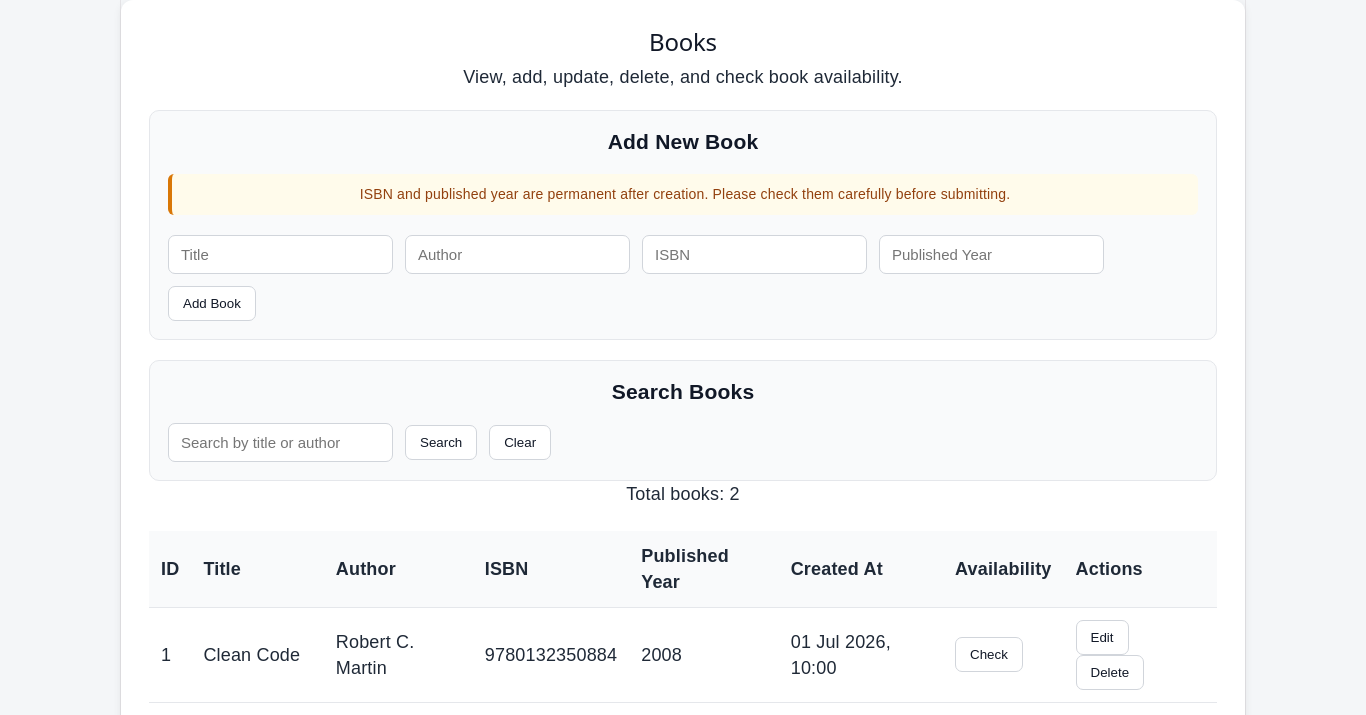
Test: BooksPage › should only allow title and author to be edited
This screenshot has width=1366, height=715.
Click the button "Edit" in the row of "Clean Code" at (1102, 637), box [1076,620,1128,655]
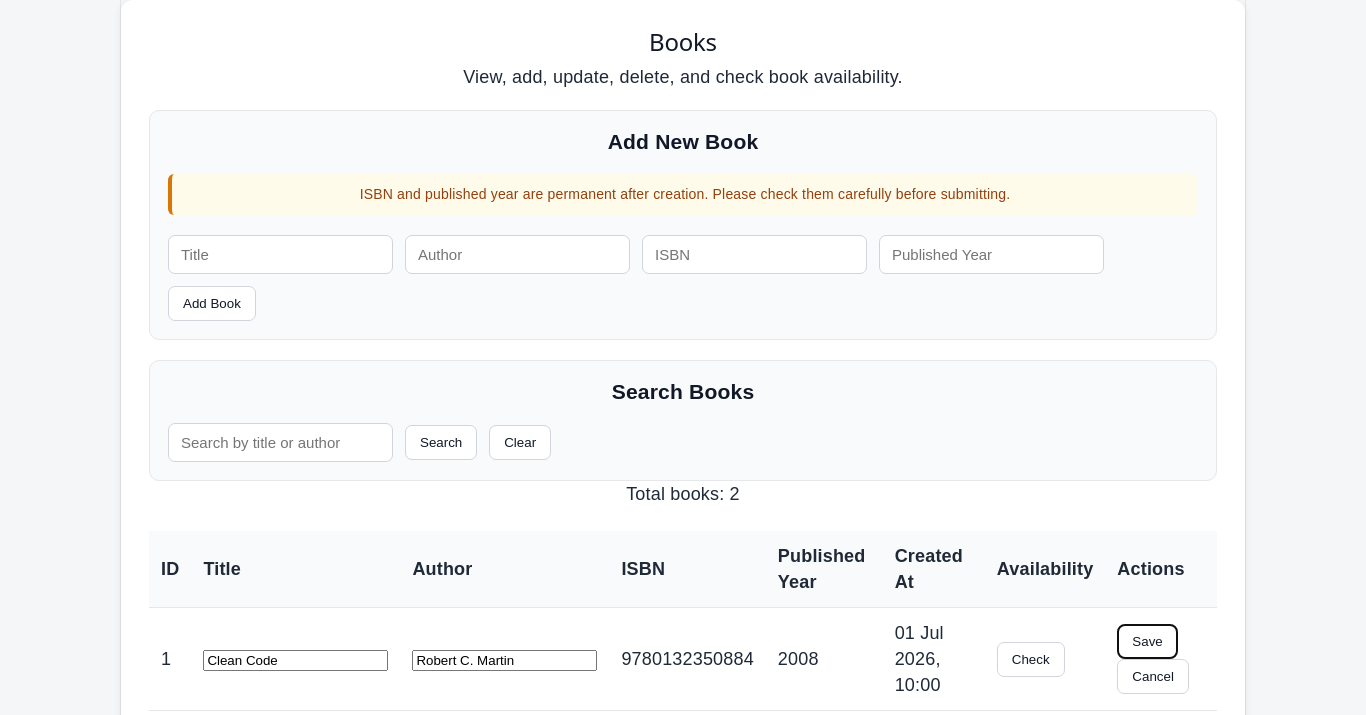
Expected: the text "9780132350884" is shown, [609,607,766,711]
Expected: the 1st field showing "Clean Code" is shown, [203,650,388,671]
Expected: the 2nd field showing "Robert C. Martin" is shown, [412,650,597,671]
